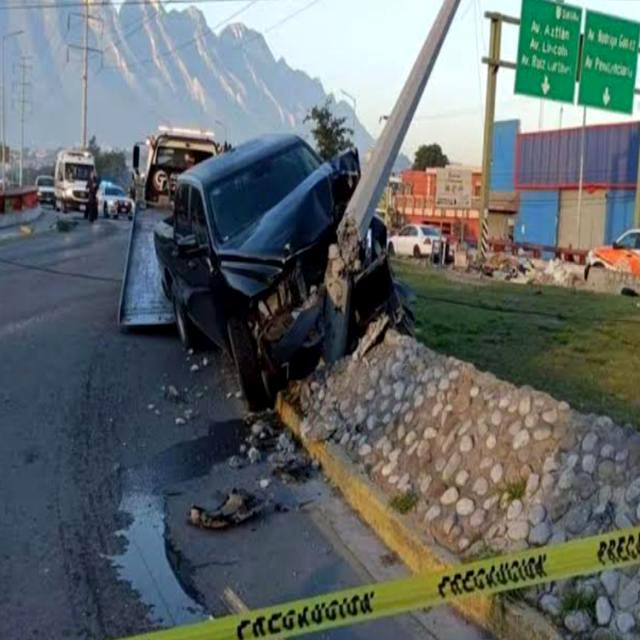Broken Pole: (319, 0, 461, 367)
